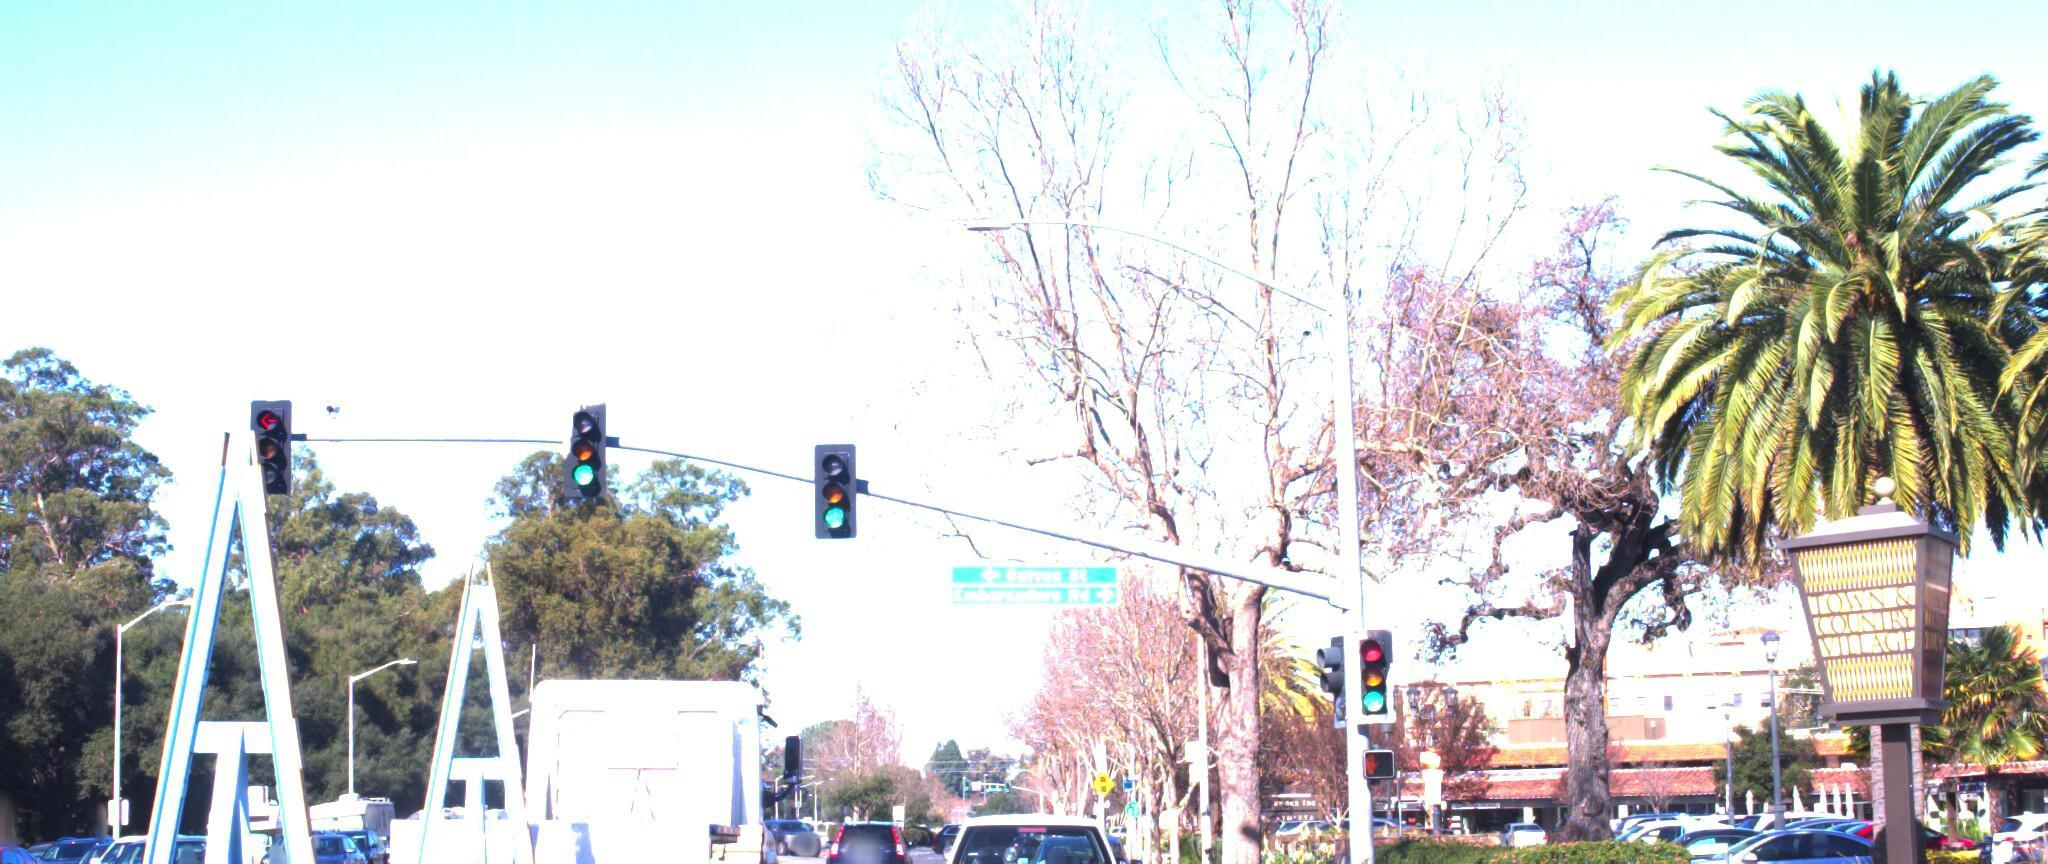car: (1533, 794, 1788, 864), (1642, 804, 1929, 864), (908, 797, 1127, 864), (88, 813, 268, 864), (824, 794, 917, 864), (0, 827, 120, 864), (0, 816, 20, 864)
truck: (0, 347, 828, 864)
